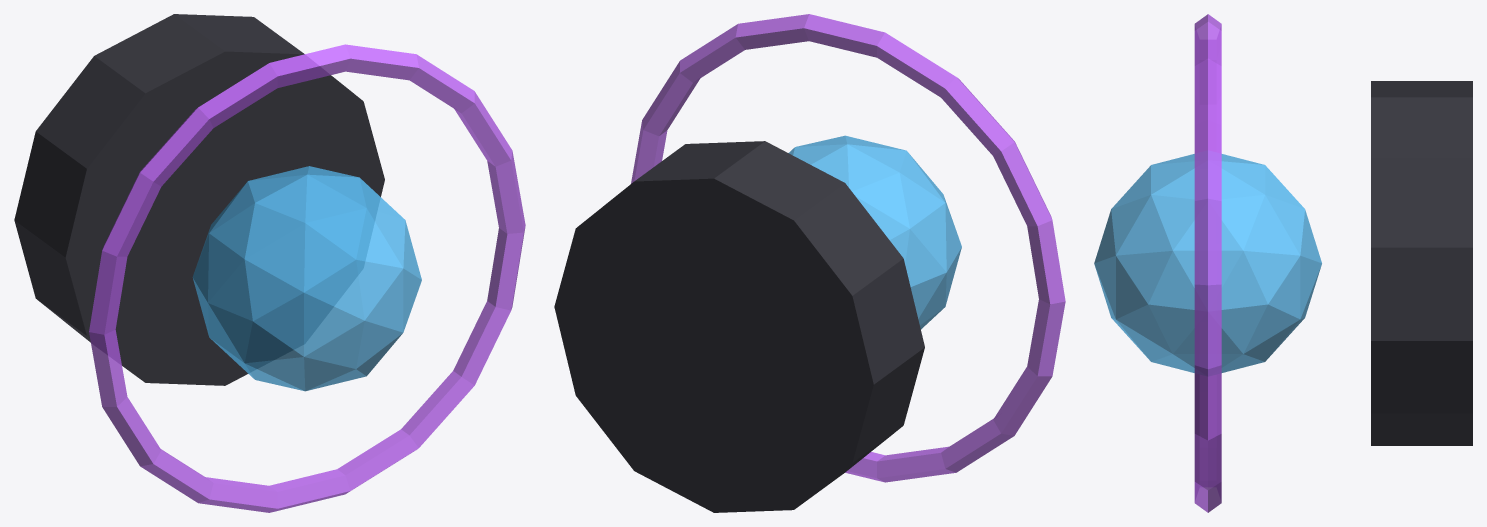
Rendered from cosmic_gravity_anchor.glb.
3 renders of one model, left to right at view 1: azimuth 30°, elevation 25°; view 2: azimuth 150°, elevation 25°; view 3: azimuth 270°, elevation 25°, orthographic.
Visible parts, largest first — view 1: base, core, field_ring; view 2: base, field_ring, core; view 3: base, core, field_ring.
Boxes of the visible parts, bbox=[...] form: base: bbox=[14, 14, 384, 385]; core: bbox=[192, 166, 421, 391]; field_ring: bbox=[89, 44, 525, 512]; base: bbox=[554, 141, 924, 512]; field_ring: bbox=[631, 14, 1065, 482]; core: bbox=[788, 135, 961, 329]; base: bbox=[1371, 81, 1472, 445]; core: bbox=[1094, 154, 1321, 372]; field_ring: bbox=[1194, 14, 1221, 512].
Bounding box in the file's own units: 1.23 × 1.21 × 0.93.
